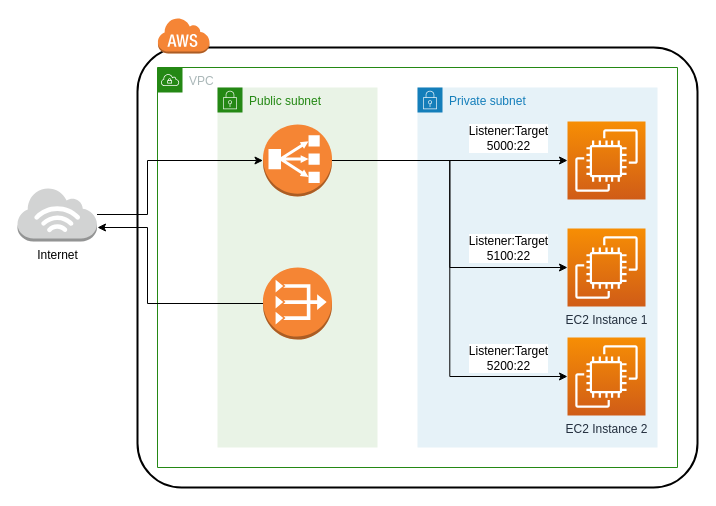
Some shapes in this 716 by 506 pixel diagram are drawn without their labels. Each missing label, with the centre of its shape:
"EC2 Instance 0" goes at point 606,160.
"NAT Gateway" goes at point 297,303.
"Network Load Balancer" goes at point 297,160.
